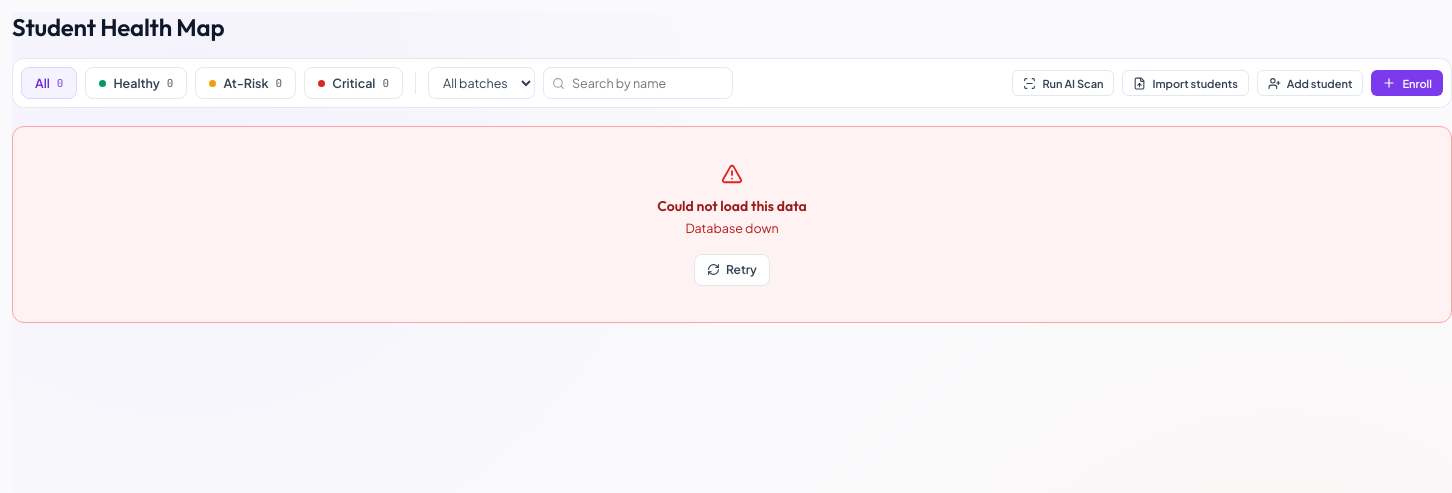
Test: StudentHealthView › shows error with server message and retries
The image size is (1452, 493).
Expected: the text "Database down" is shown, [685,219,779,238]
Click the button "Retry" at (732, 270), box [694,254,770,286]
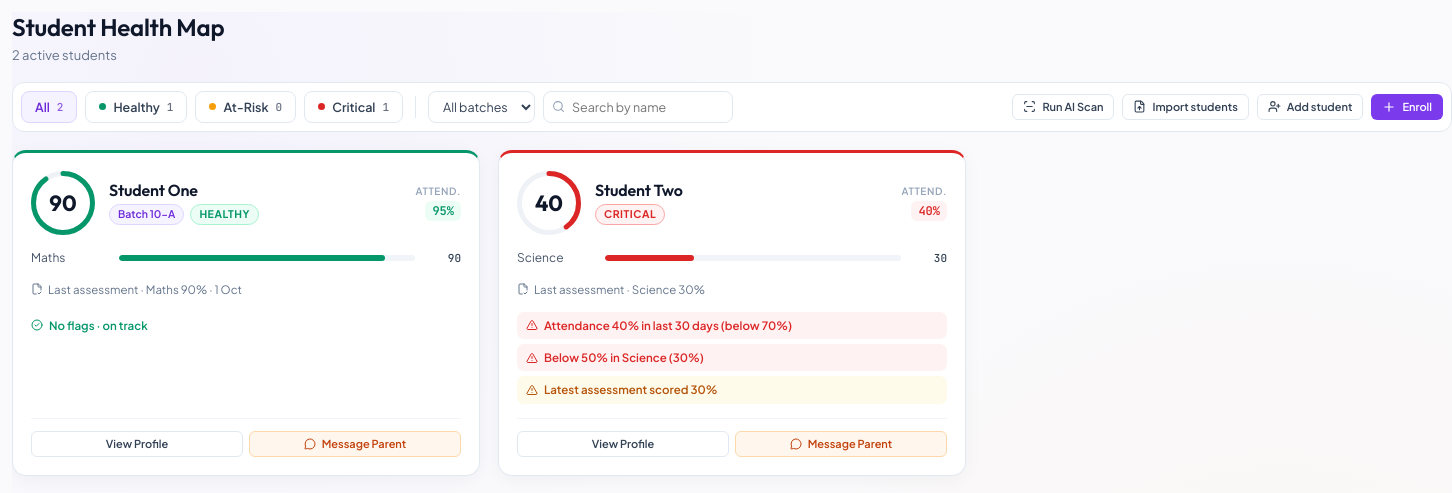
Expected: the heading "Student One" is shown, [109,180,198,200]
